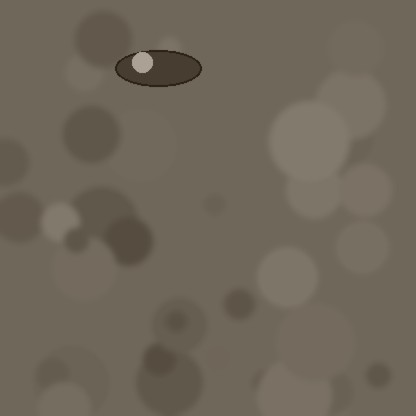gota: (115, 51, 201, 89)
